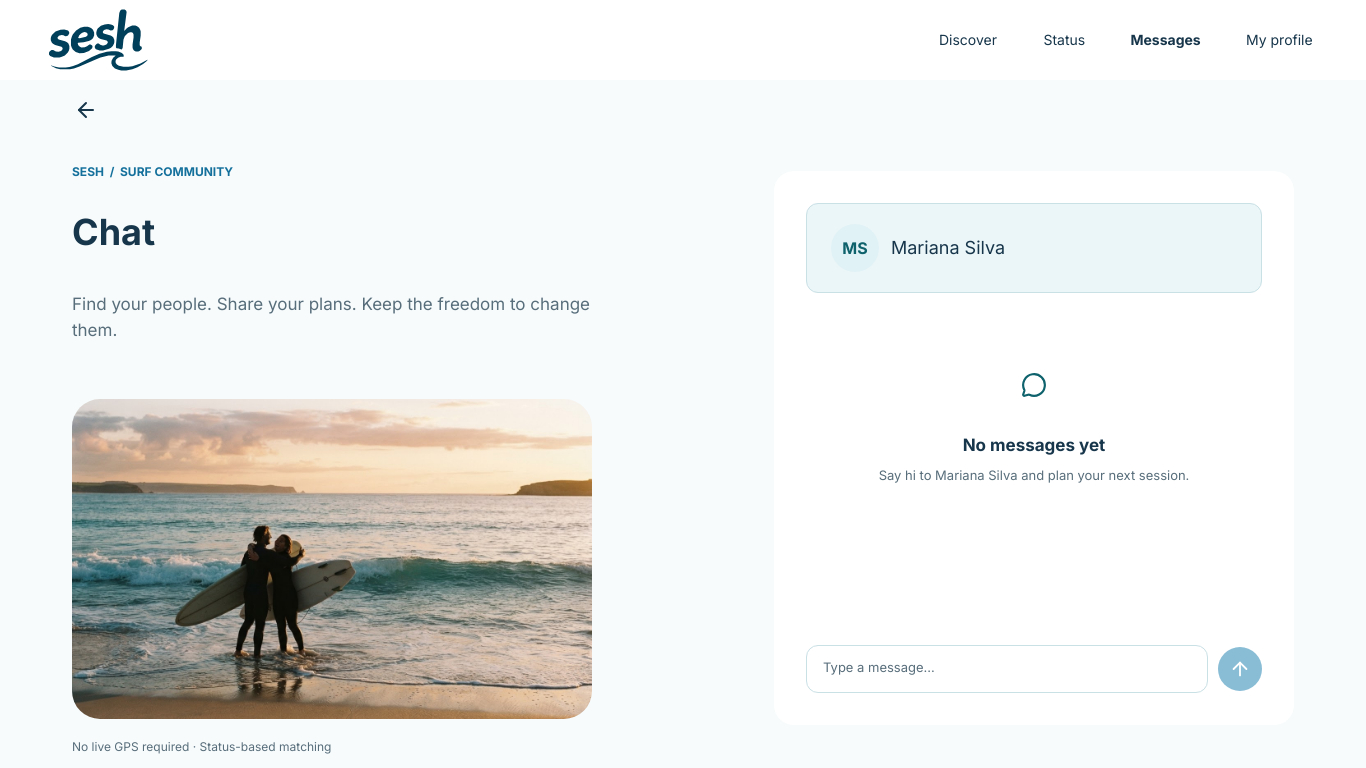
Test case: sending › the server’s message for a refused text is shown (400)
The image size is (1366, 768).
expect the heading "No messages yet" is shown: met, box [963,432,1105,458]
Click the text box labelled "message". click: point(1007, 668)
box: [806,644,1208,692]
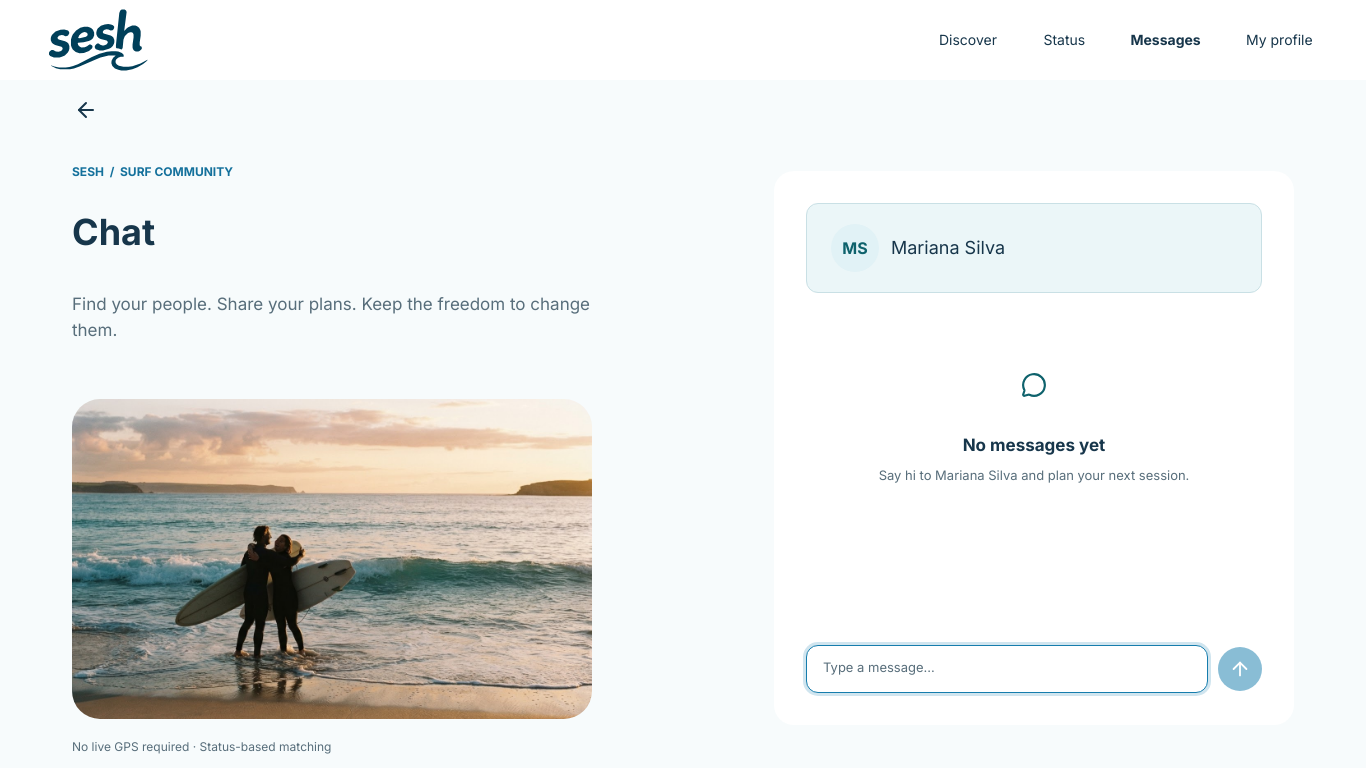
Type keys "Hi{Enter}"
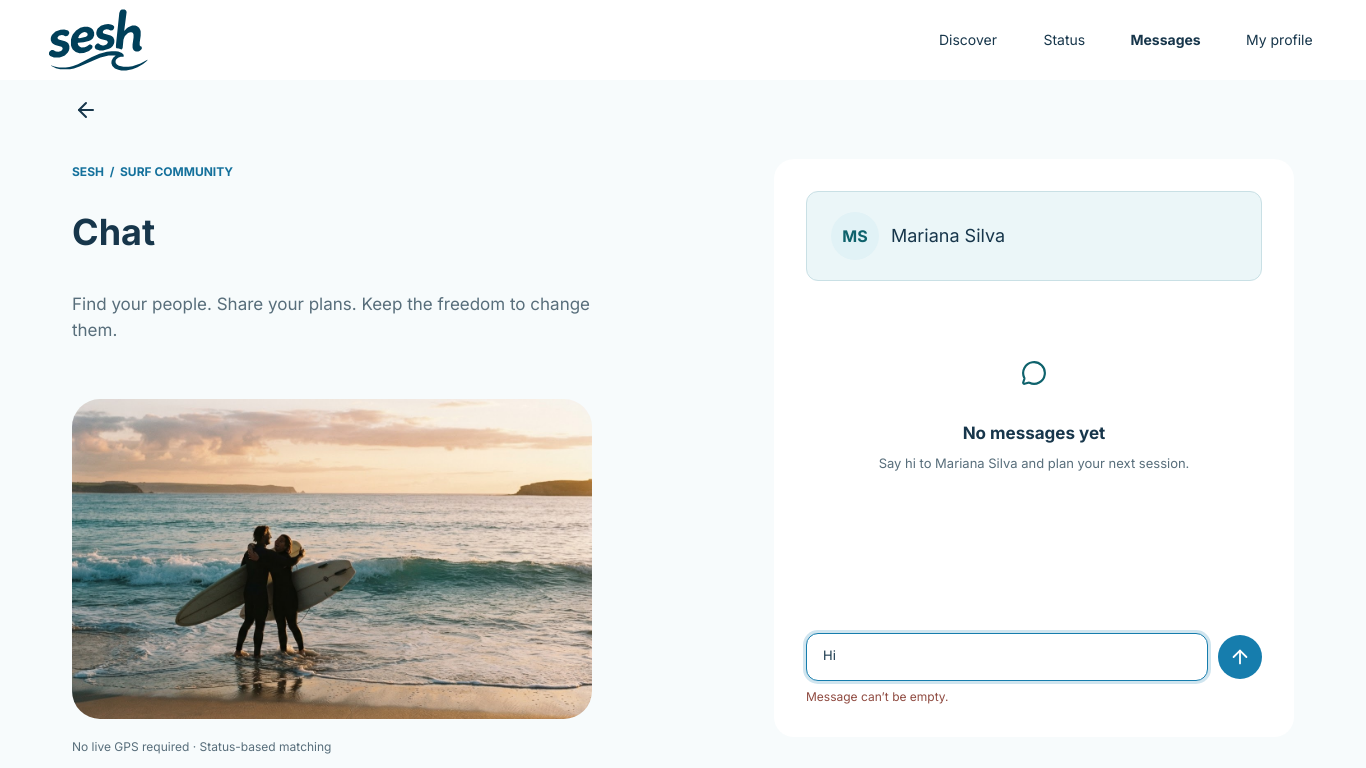
expect the message reads "Message can’t be empty.": met, box [806,688,948,704]
expect the text box named "message" holds "Hi": met, box [806,632,1208,680]
